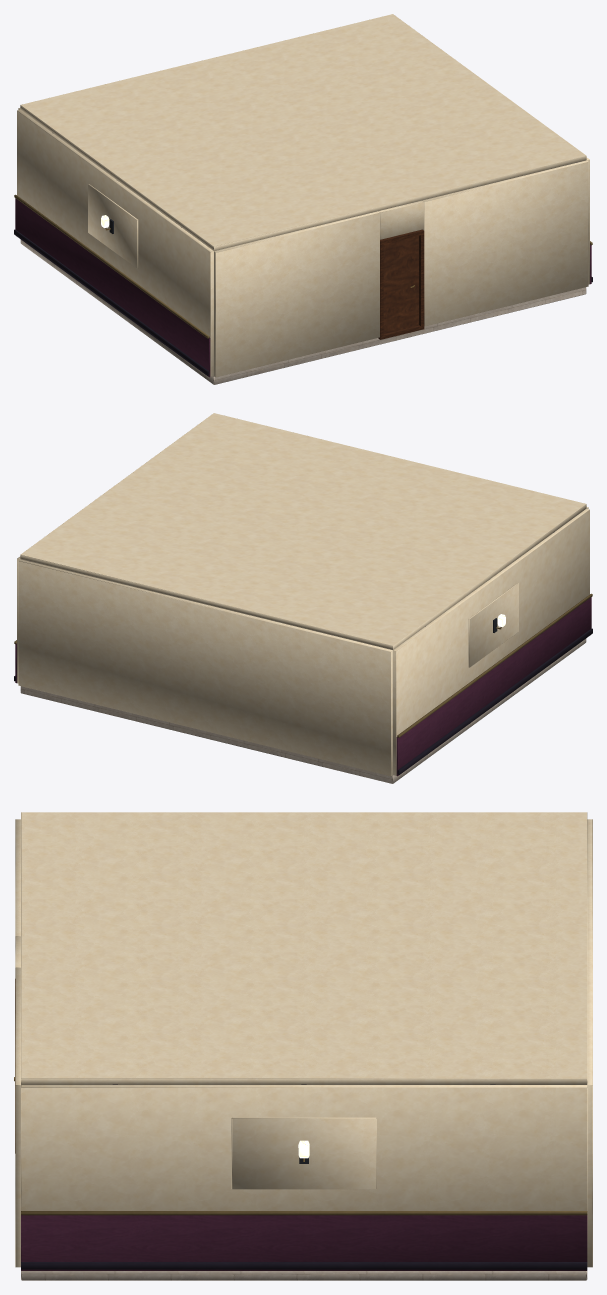
File: explore3d__clinic.glb
3 renders of one model, top to bottom at view 1: azimuth 30°, elevation 25°; view 2: azimuth 150°, elevation 25°; view 3: azimuth 270°, elevation 25°, orthographic. The views are drawn at different scales.
Parts seen in each view (by area): view 1: Rebuilt_clinic; view 2: Rebuilt_clinic; view 3: Rebuilt_clinic.
Boxes of the visible parts, left/top/right/bottom form: Rebuilt_clinic: left=14, top=14, right=592, bottom=384; Rebuilt_clinic: left=14, top=413, right=592, bottom=783; Rebuilt_clinic: left=14, top=812, right=592, bottom=1280.
Size of the model in its own units: 10.79 by 3.56 by 9.2.
Materials: 16 (15 with a texture image).
